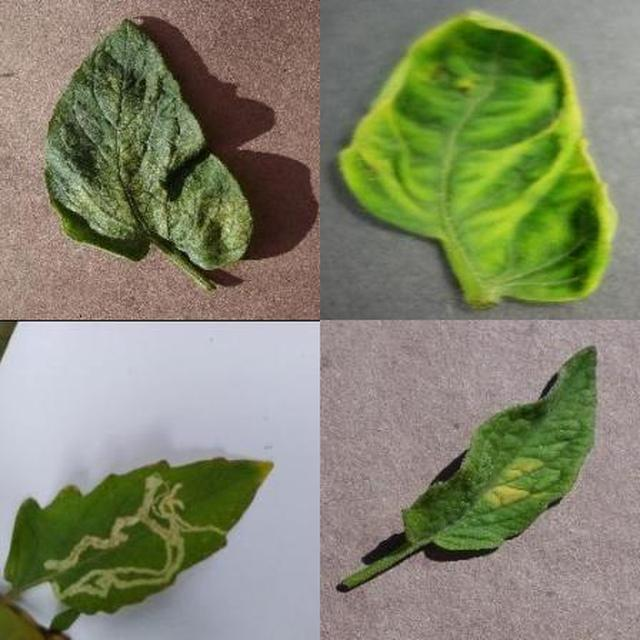Spider Mites Leaf: (199, 205, 640, 640)
